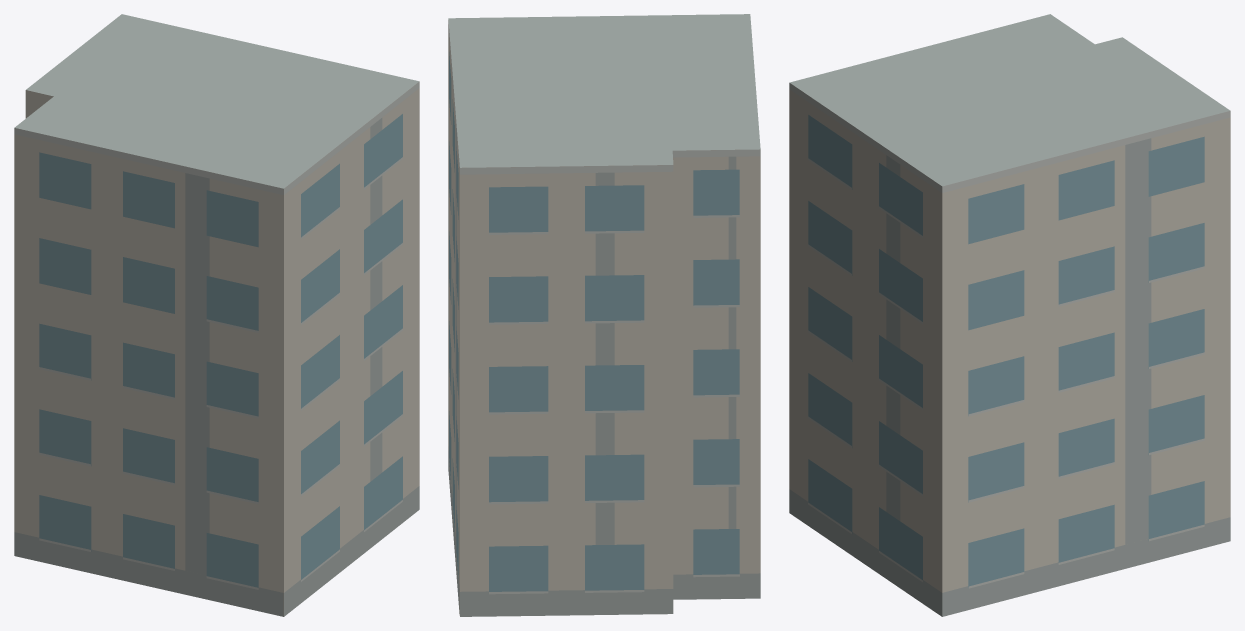
The model's file is residential-3b4879f5-d1ab-41fa-af87-16786f119c0c.glb.
3 views of the same model, side by side, from view 1: azimuth 30°, elevation 25°; view 2: azimuth 150°, elevation 25°; view 3: azimuth 270°, elevation 25° (orthographic). The views are drawn at different scales.
Parts seen in each view (by area): view 1: residential-3b4879f5-d1ab-41fa-af87-16786f119c0c.tmp; view 2: residential-3b4879f5-d1ab-41fa-af87-16786f119c0c.tmp; view 3: residential-3b4879f5-d1ab-41fa-af87-16786f119c0c.tmp.
Boxes of the visible parts, x1,y1,x2,y2 form: residential-3b4879f5-d1ab-41fa-af87-16786f119c0c.tmp: (14, 14, 419, 616); residential-3b4879f5-d1ab-41fa-af87-16786f119c0c.tmp: (448, 14, 760, 616); residential-3b4879f5-d1ab-41fa-af87-16786f119c0c.tmp: (789, 14, 1230, 616).
Size of the model in its own units: 13.67 by 15.9 by 14.78.
